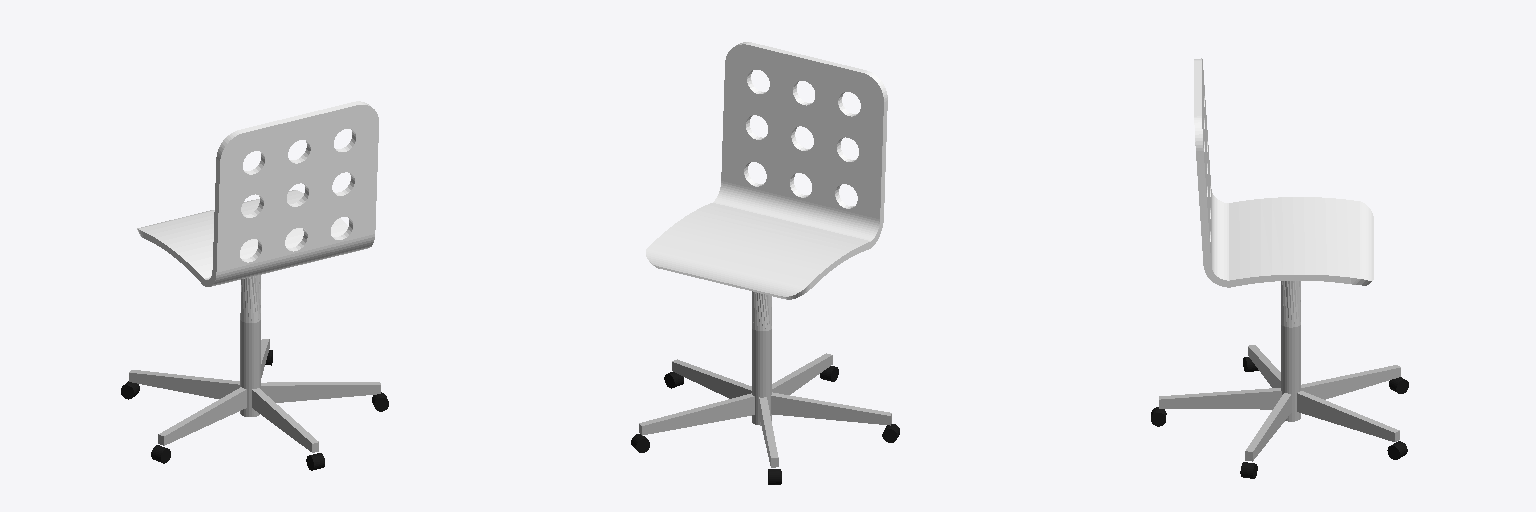
The picture shows the model from 3 angles: view 1: azimuth 30°, elevation 25°; view 2: azimuth 150°, elevation 25°; view 3: azimuth 270°, elevation 25°; orthographic projection.
Visible parts, largest first — view 1: Mesh1 Group2 Group1 Model, Mesh12 Group3 ske3F1 Group1 Model, Mesh5 Group5 Group3 ske3F1 Group1 Model, Mesh3 Group4 Group3 ske3F1 Group1 Model, Mesh7 Group6 Group3 ske3F1 Group1 Model, Mesh9 Group7 Group3 ske3F1 Group1 Model; view 2: Mesh1 Group2 Group1 Model, Mesh12 Group3 ske3F1 Group1 Model, Mesh7 Group6 Group3 ske3F1 Group1 Model, Mesh11 Group8 Group3 ske3F1 Group1 Model, Mesh5 Group5 Group3 ske3F1 Group1 Model, Mesh9 Group7 Group3 ske3F1 Group1 Model, Mesh3 Group4 Group3 ske3F1 Group1 Model; view 3: Mesh1 Group2 Group1 Model, Mesh12 Group3 ske3F1 Group1 Model, Mesh9 Group7 Group3 ske3F1 Group1 Model, Mesh11 Group8 Group3 ske3F1 Group1 Model, Mesh3 Group4 Group3 ske3F1 Group1 Model, Mesh5 Group5 Group3 ske3F1 Group1 Model, Mesh7 Group6 Group3 ske3F1 Group1 Model.
Boxes of the visible parts, x1,y1,x2,y2 form: Mesh1 Group2 Group1 Model: [137, 101, 378, 286]; Mesh12 Group3 ske3F1 Group1 Model: [240, 275, 260, 416]; Mesh5 Group5 Group3 ske3F1 Group1 Model: [261, 382, 380, 402]; Mesh3 Group4 Group3 ske3F1 Group1 Model: [129, 370, 239, 398]; Mesh7 Group6 Group3 ske3F1 Group1 Model: [158, 387, 246, 445]; Mesh9 Group7 Group3 ske3F1 Group1 Model: [252, 388, 318, 452]; Mesh1 Group2 Group1 Model: [646, 42, 887, 299]; Mesh12 Group3 ske3F1 Group1 Model: [752, 291, 771, 425]; Mesh7 Group6 Group3 ske3F1 Group1 Model: [771, 392, 891, 425]; Mesh11 Group8 Group3 ske3F1 Group1 Model: [639, 393, 754, 435]; Mesh5 Group5 Group3 ske3F1 Group1 Model: [672, 359, 751, 398]; Mesh9 Group7 Group3 ske3F1 Group1 Model: [772, 353, 832, 394]; Mesh3 Group4 Group3 ske3F1 Group1 Model: [759, 397, 778, 467]; Mesh1 Group2 Group1 Model: [1194, 58, 1373, 287]; Mesh12 Group3 ske3F1 Group1 Model: [1281, 281, 1300, 421]; Mesh9 Group7 Group3 ske3F1 Group1 Model: [1159, 388, 1281, 409]; Mesh11 Group8 Group3 ske3F1 Group1 Model: [1297, 391, 1399, 441]; Mesh3 Group4 Group3 ske3F1 Group1 Model: [1301, 365, 1400, 399]; Mesh5 Group5 Group3 ske3F1 Group1 Model: [1245, 393, 1291, 461]; Mesh7 Group6 Group3 ske3F1 Group1 Model: [1248, 345, 1280, 387].
Size of the model in its own units: 0.5512 by 0.7563 by 0.5258.